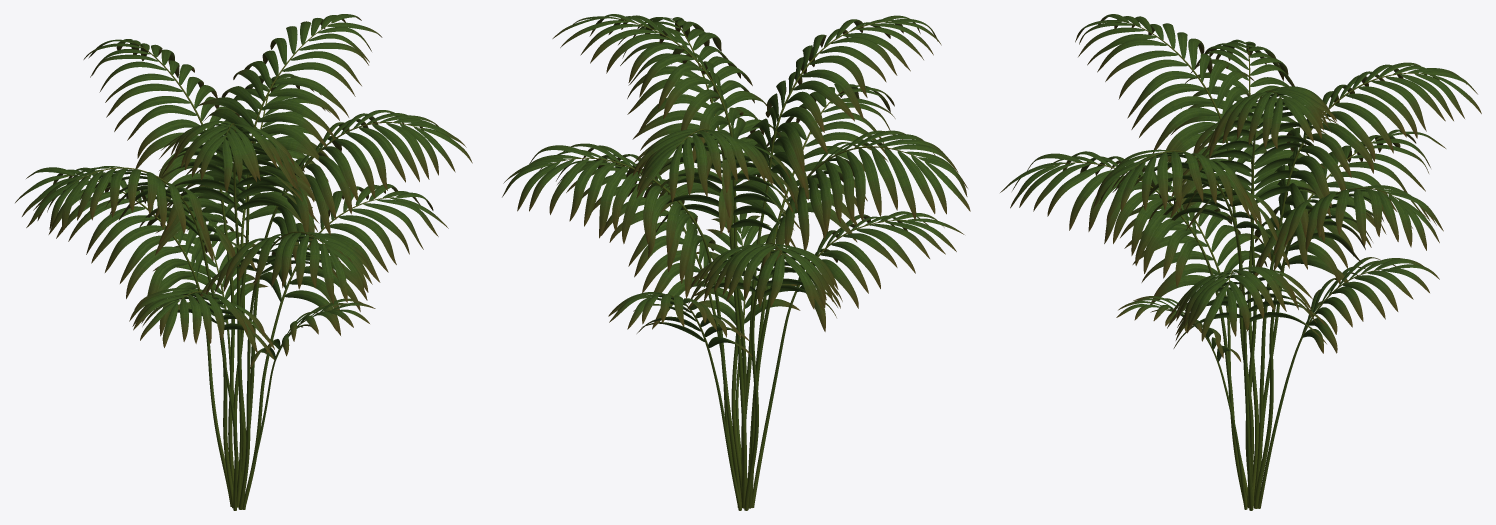
File: leafs_test.glb
The picture shows the model from 3 angles, left to right: view 1: azimuth 30°, elevation 25°; view 2: azimuth 150°, elevation 25°; view 3: azimuth 270°, elevation 25°; orthographic projection. The views are drawn at different scales.
Visible parts, largest first — view 1: Howea_f__A001; view 2: Howea_f__A001; view 3: Howea_f__A001.
Boxes of the visible parts, x1=… form: Howea_f__A001: x1=15, y1=14, x2=472, y2=510; Howea_f__A001: x1=502, y1=14, x2=970, y2=510; Howea_f__A001: x1=1000, y1=14, x2=1481, y2=510.
Size of the model in its own units: 167 by 179 by 169.
2 materials, 2 textured.
